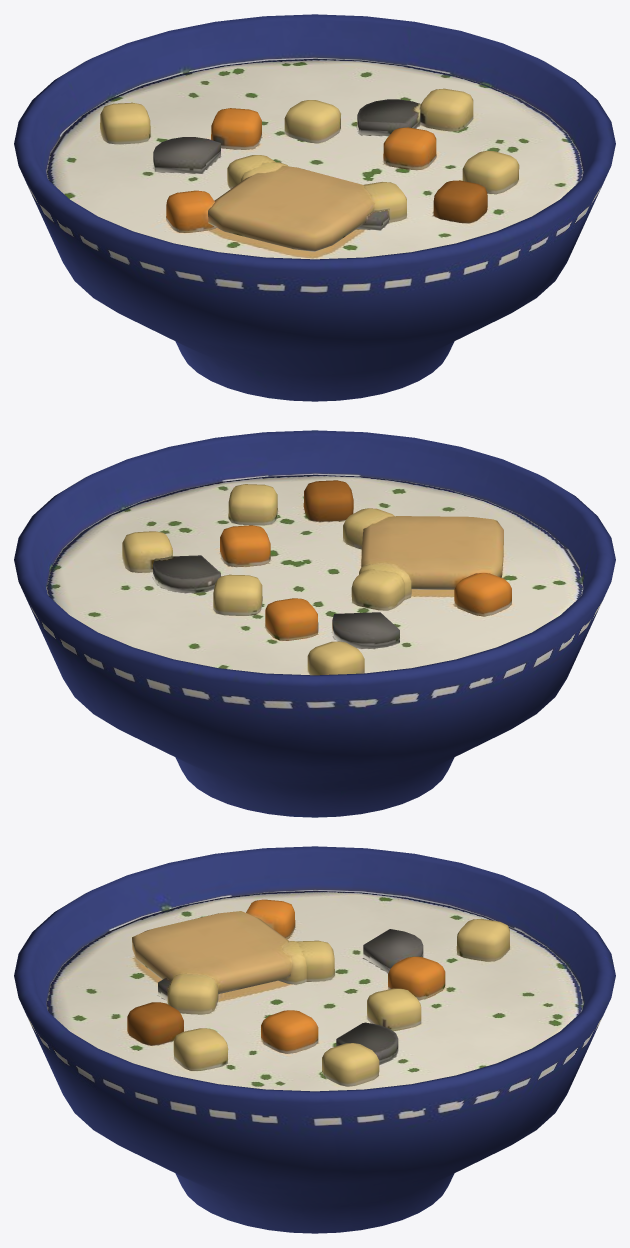
Rendered from clam_chowder.glb.
3 renders of one model, top to bottom at view 1: azimuth 30°, elevation 25°; view 2: azimuth 150°, elevation 25°; view 3: azimuth 270°, elevation 25°, orthographic.
Visible parts, largest first — view 1: prop_clam_chowder_felt; view 2: prop_clam_chowder_felt; view 3: prop_clam_chowder_felt.
Boxes of the visible parts, bbox=[...] form: prop_clam_chowder_felt: bbox=[14, 14, 615, 401]; prop_clam_chowder_felt: bbox=[14, 430, 615, 817]; prop_clam_chowder_felt: bbox=[14, 846, 615, 1233].
Bounding box in the file's own units: 0.204 × 0.0773 × 0.204.
1 material, 1 textured.
